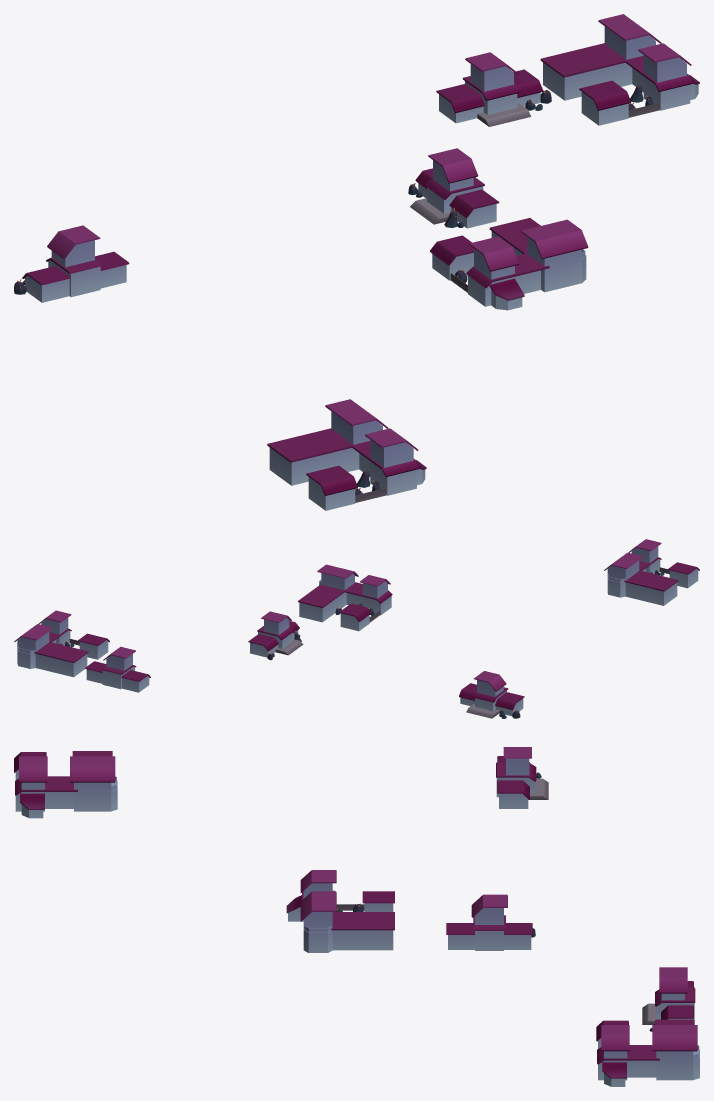
Rendered from World_Architecture.gltf.
3 views of the same model, one above another, from view 1: azimuth 30°, elevation 25°; view 2: azimuth 150°, elevation 25°; view 3: azimuth 270°, elevation 25° (orthographic). The views are drawn at different scales.
Parts seen in each view (by area): view 1: World_Architecture; view 2: World_Architecture; view 3: World_Architecture.
Boxes of the visible parts, <box> form: World_Architecture: <box>14,14,699,510</box>; World_Architecture: <box>14,539,699,718</box>; World_Architecture: <box>14,747,699,1086</box>.
Bounding box in the file's own units: 198 × 16.79 × 188.
1 material, 1 textured.
